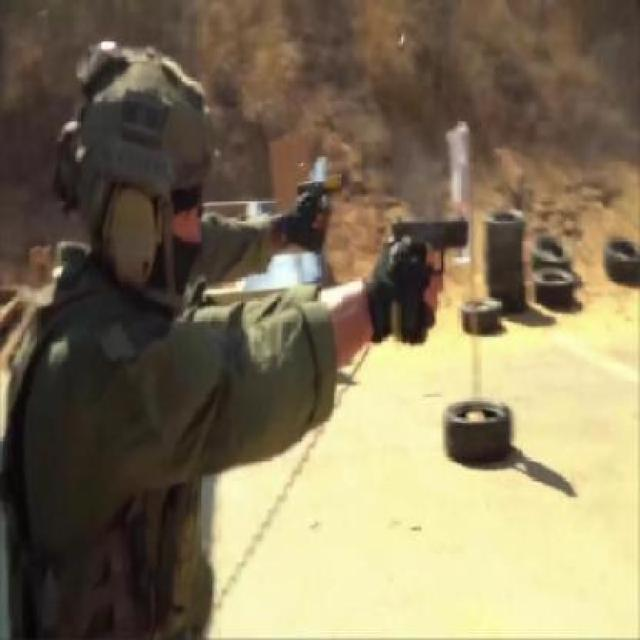gun: (390, 216, 470, 344), (295, 172, 343, 226)
